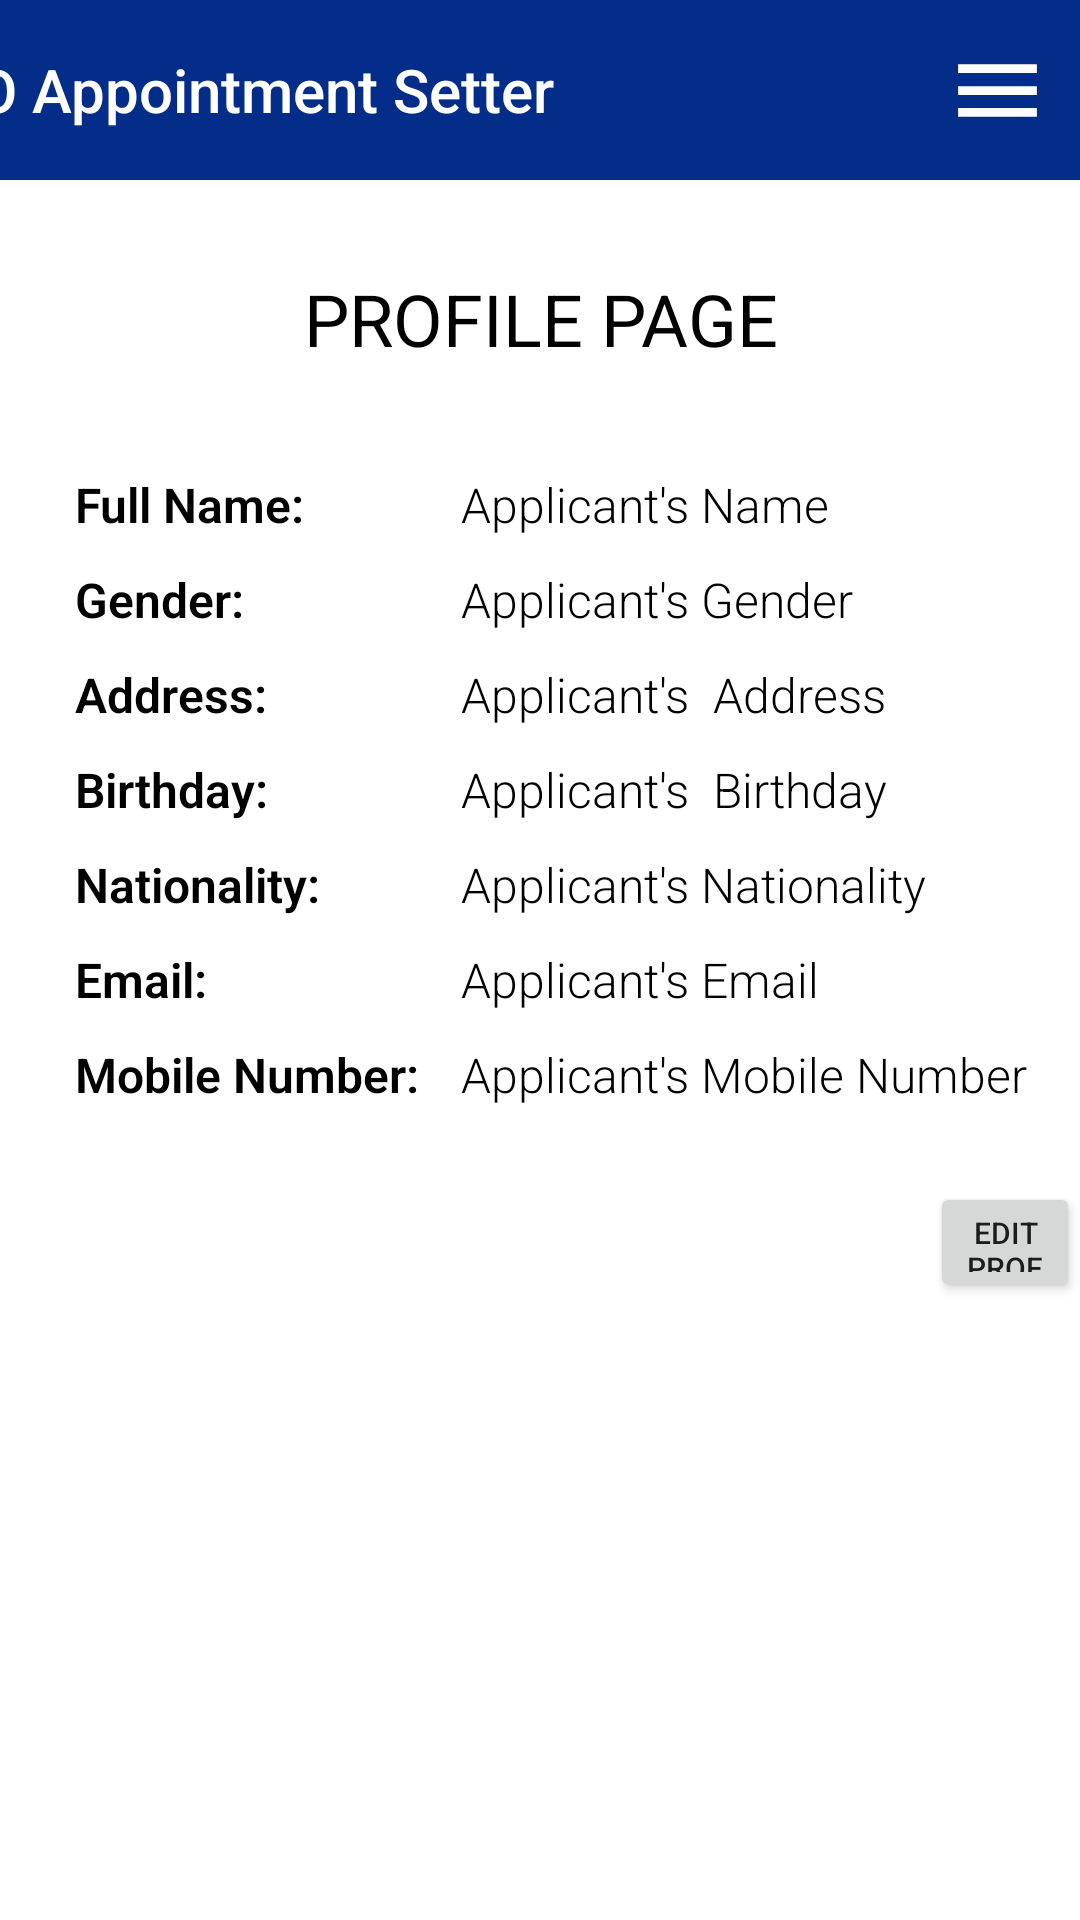

Named icons in this screenshot (1080×1920) and their centers, point (x, y):
menu: point (997, 90)
